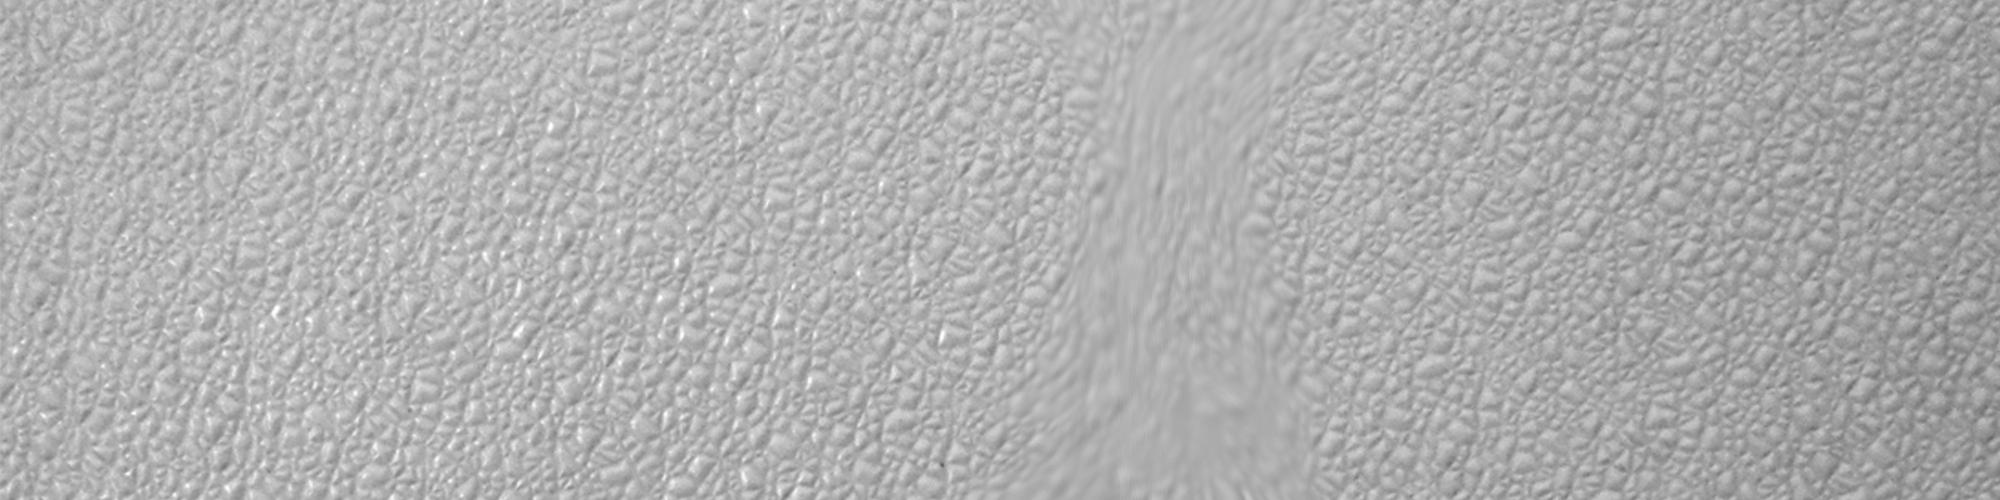Flow_Lines: (996, 13, 1339, 491)
